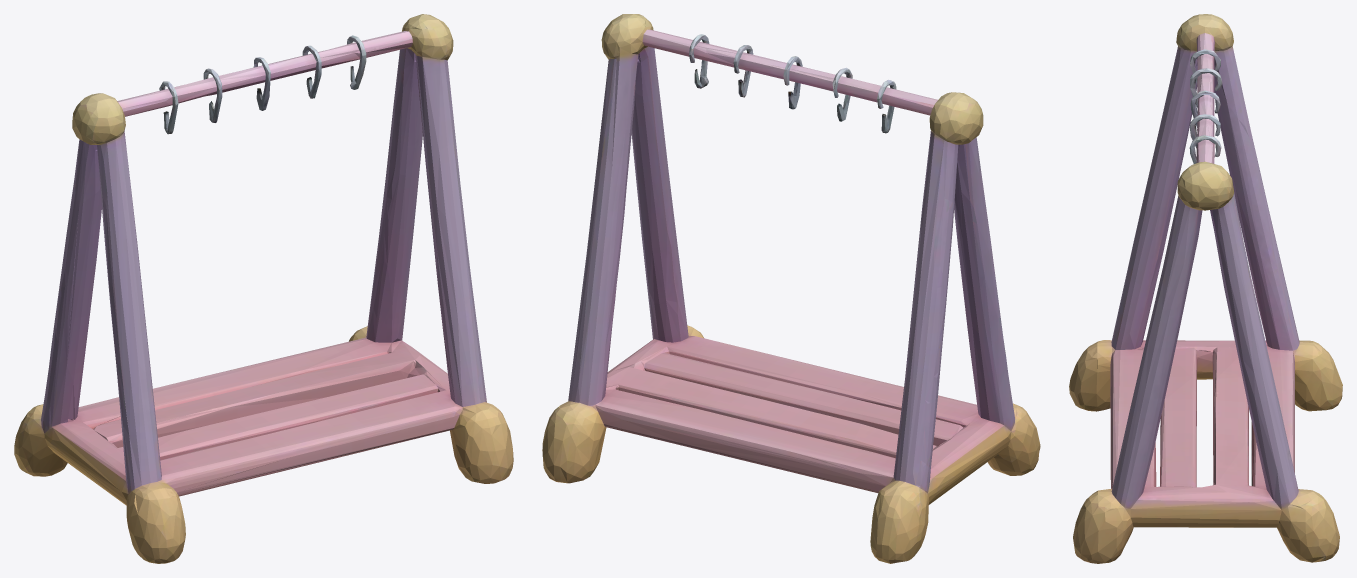
Rendered from clothes_rack.glb.
3 renders of one model, left to right at view 1: azimuth 30°, elevation 25°; view 2: azimuth 150°, elevation 25°; view 3: azimuth 270°, elevation 25°, orthographic. The views are drawn at different scales.
Parts seen in each view (by area): view 1: geometry_0; view 2: geometry_0; view 3: geometry_0.
Boxes of the visible parts, box(x1,y1,x2,y2) form: geometry_0: box(14, 14, 513, 563); geometry_0: box(542, 14, 1040, 563); geometry_0: box(1069, 14, 1342, 563).
Size of the model in its own units: 0.9484 by 0.9986 by 0.6368.
Materials: 1 (1 with a texture image).
